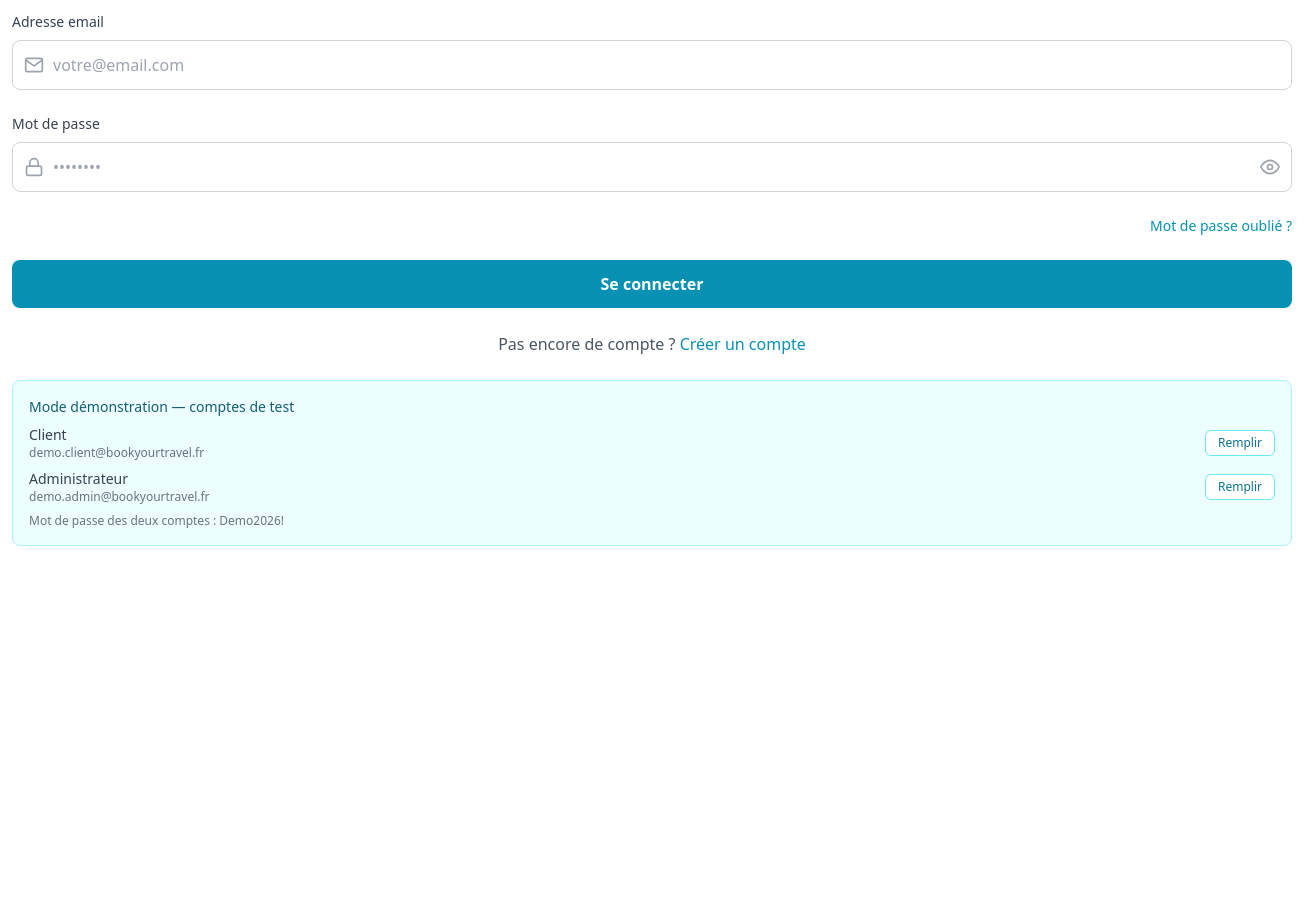
Test: LoginForm › affiche le message d'erreur renvoyé par login() et ne redirige pas
In the field labelled "Adresse email": {"x": 652, "y": 65} [12,40,1292,90], type "yannick@test.com"
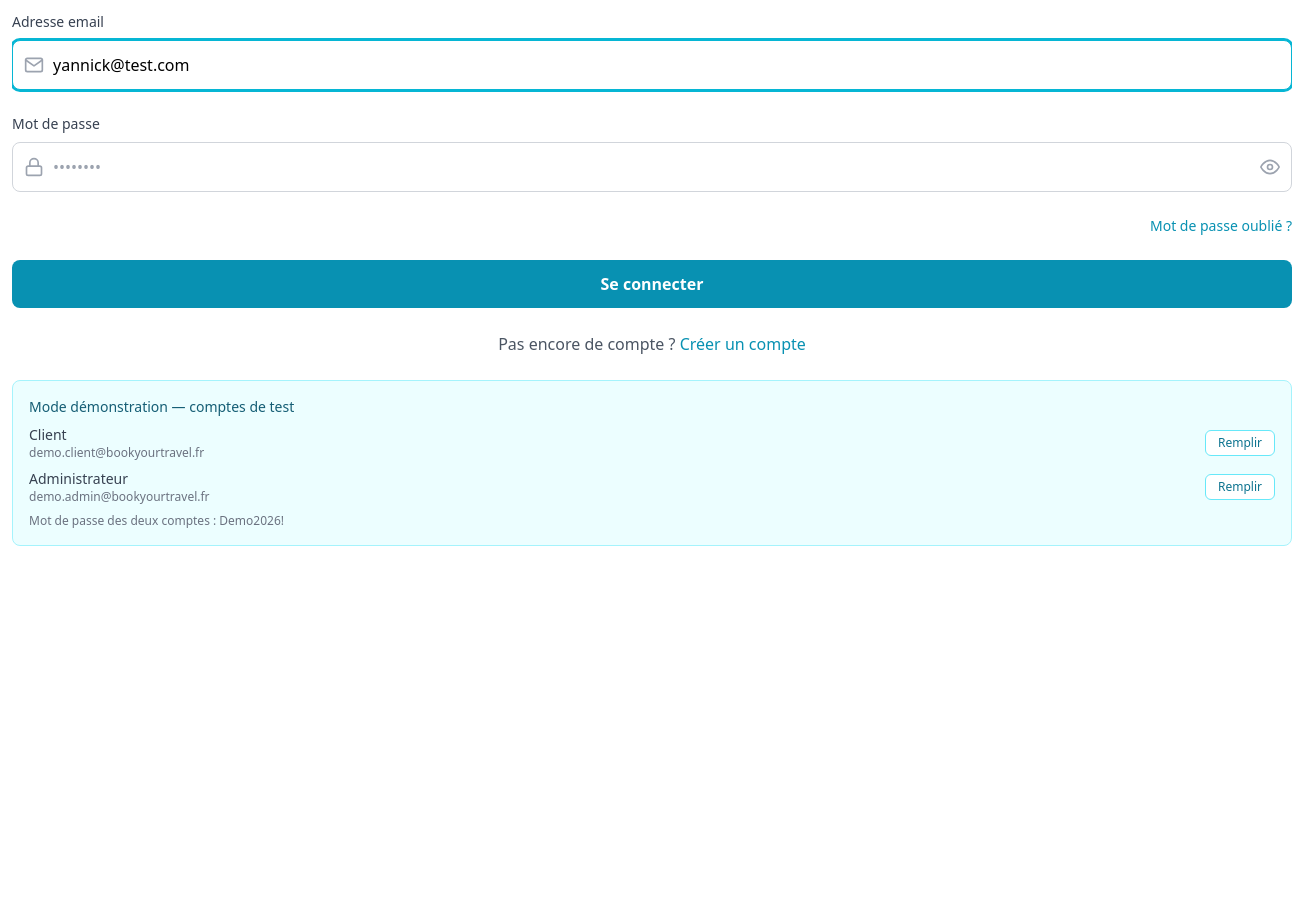
In the password field labelled "Mot de passe": {"x": 652, "y": 167} [12,142,1292,192], type "mauvais"
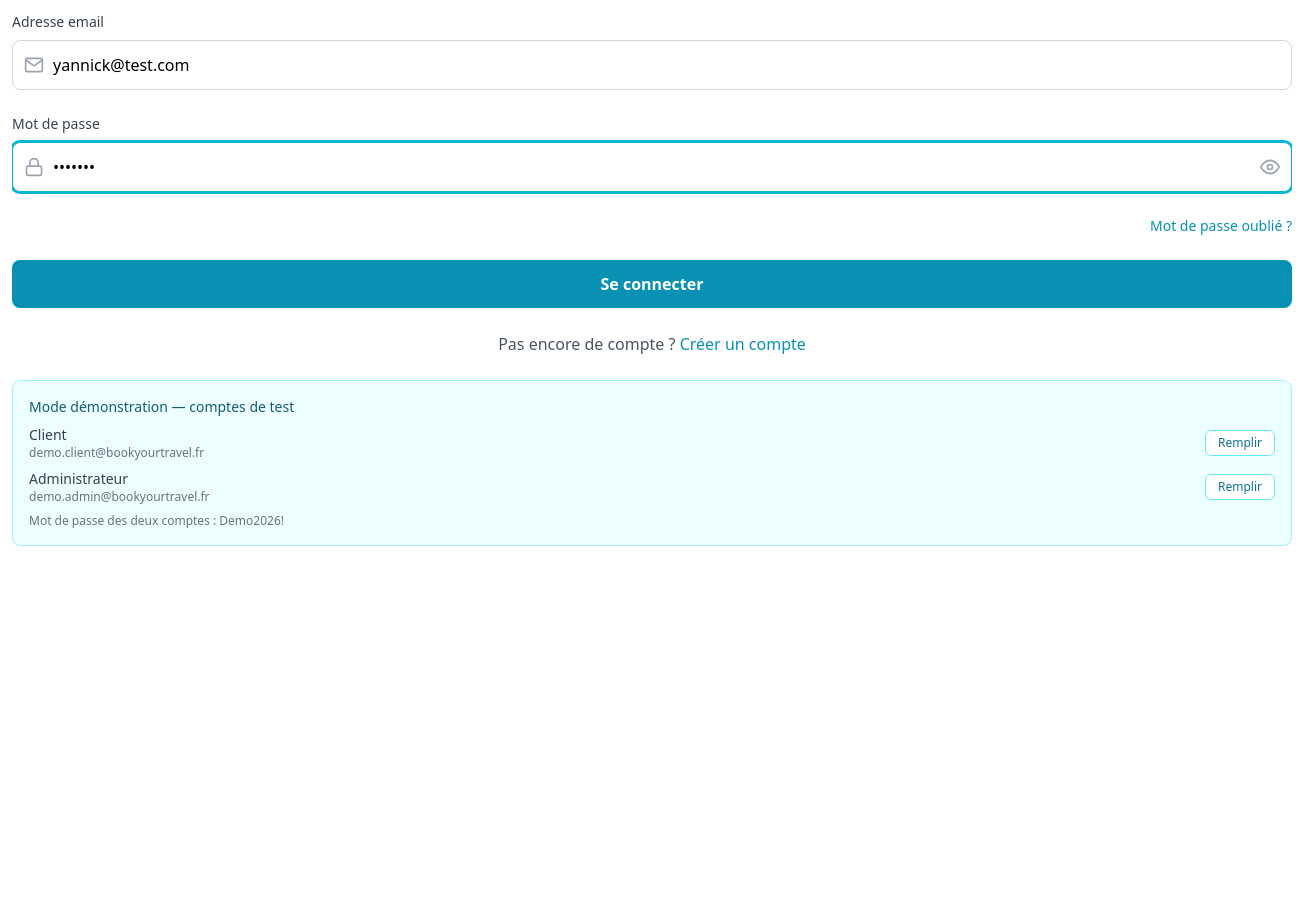
Click the button "Se connecter": {"x": 652, "y": 284} [12,260,1292,308]
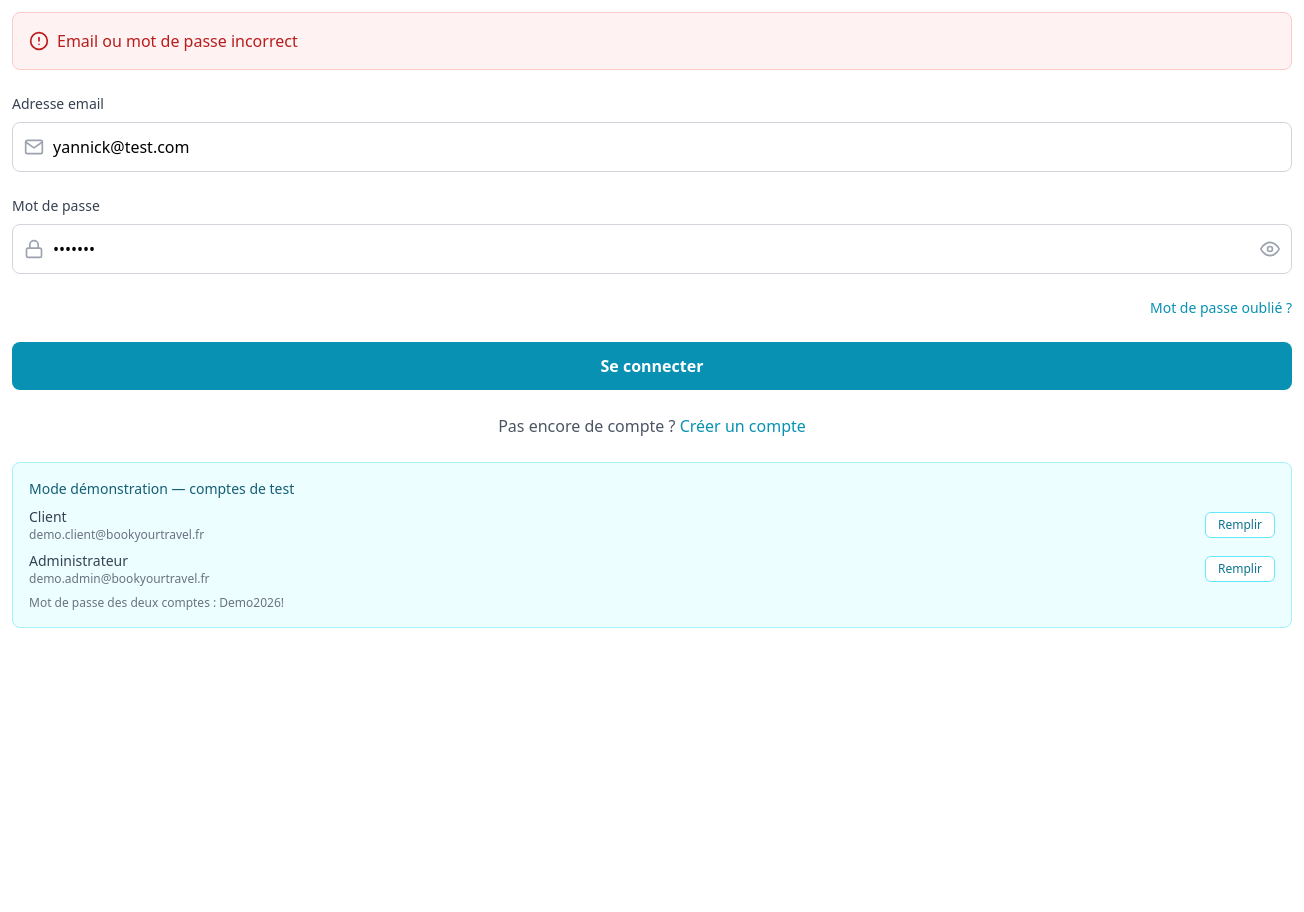
Check: the button "Se connecter" is enabled, box [12,342,1292,390]
Check: the text "Email ou mot de passe incorrect" is shown, box [57,29,298,53]
